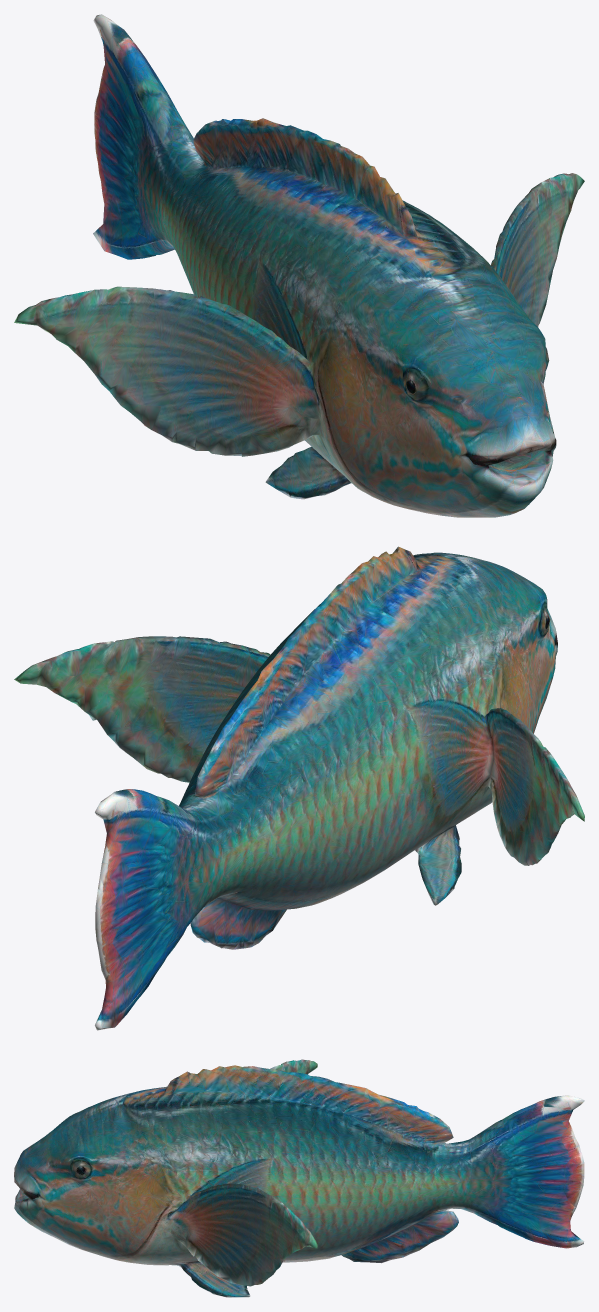
Rendered from fish_parrot.glb.
The picture shows the model from 3 angles, top to bottom: view 1: azimuth 30°, elevation 25°; view 2: azimuth 150°, elevation 25°; view 3: azimuth 270°, elevation 25°; orthographic projection. The views are drawn at different scales.
Visible parts, largest first — view 1: geometry_0; view 2: geometry_0; view 3: geometry_0.
Boxes of the visible parts, bbox=[...] form: geometry_0: bbox=[14, 14, 584, 517]; geometry_0: bbox=[14, 546, 584, 1030]; geometry_0: bbox=[14, 1059, 584, 1297].
Bounding box in the file's own units: 1.49 × 0.7821 × 1.96.
Materials: 1 (1 with a texture image).
